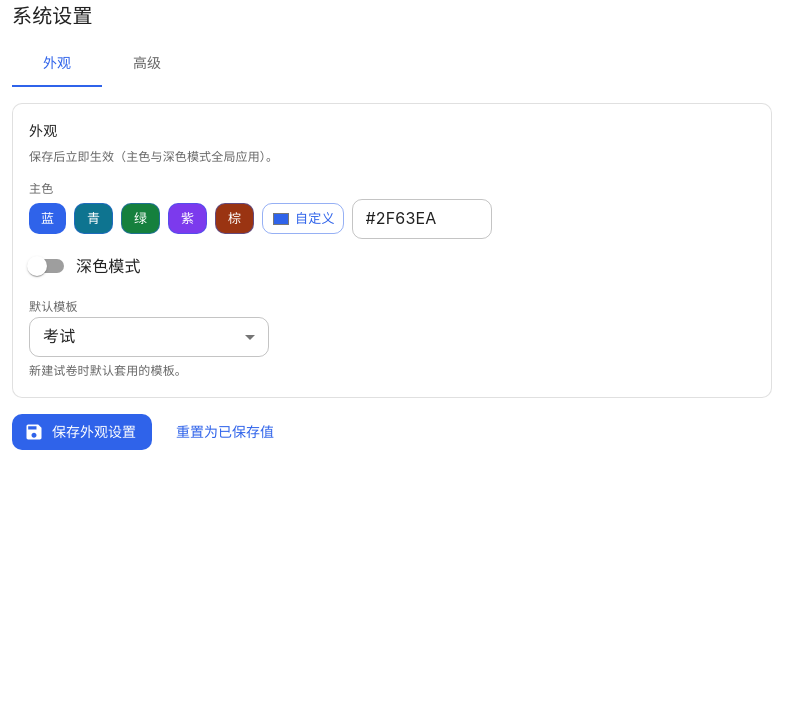
Scenario: 页面标题层级（以设置页为例） › 区块标题是 h2（不跳级到 h6）：外观 Tab 有「外观」，高级 Tab 有「数据库 / 导出目录」
切到「高级」Tab。
Click the tab "高级" at (147,63), box [102,39,192,87]
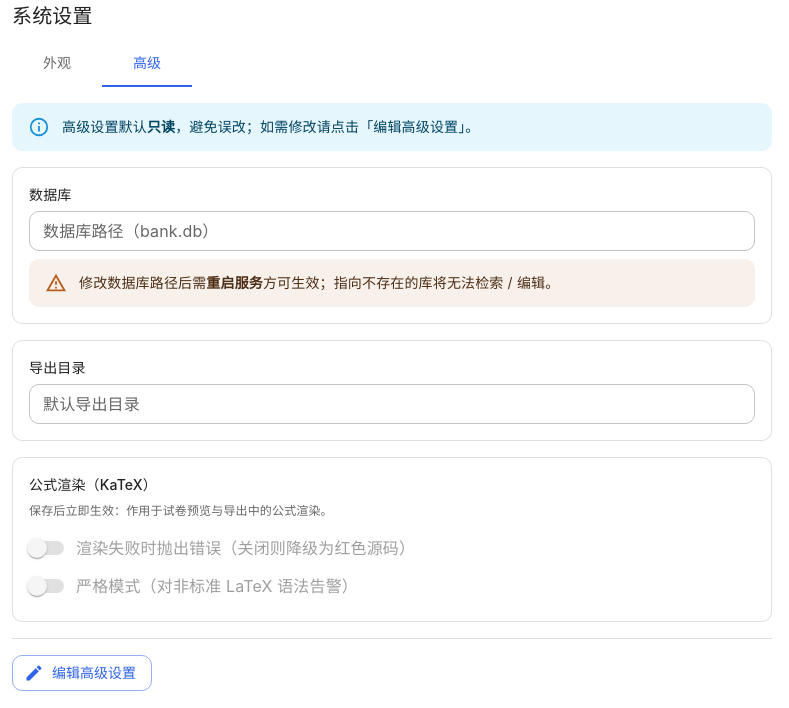
expect the heading "数据库" is shown: met, box [29,186,72,203]
expect the heading "导出目录" is shown: met, box [29,359,86,376]
